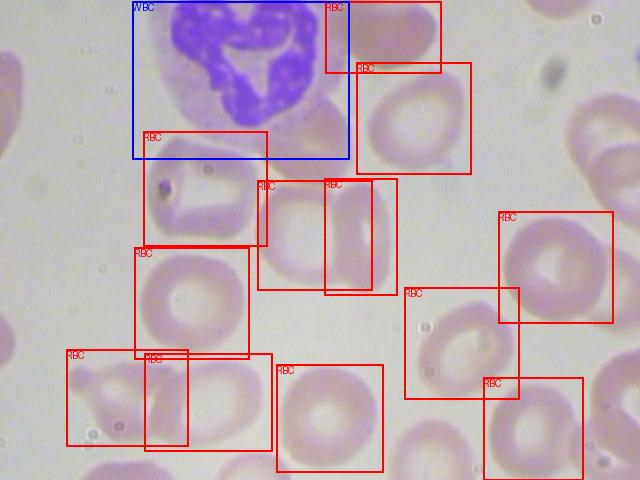RBC: (143, 131, 267, 246), (134, 247, 249, 359), (356, 62, 471, 174), (404, 287, 519, 399), (498, 211, 613, 323), (257, 180, 372, 290), (144, 353, 272, 451), (66, 349, 188, 446), (276, 364, 383, 472), (483, 377, 583, 480), (324, 178, 397, 295), (325, 1, 441, 73)
WBC: (132, 1, 349, 159)
